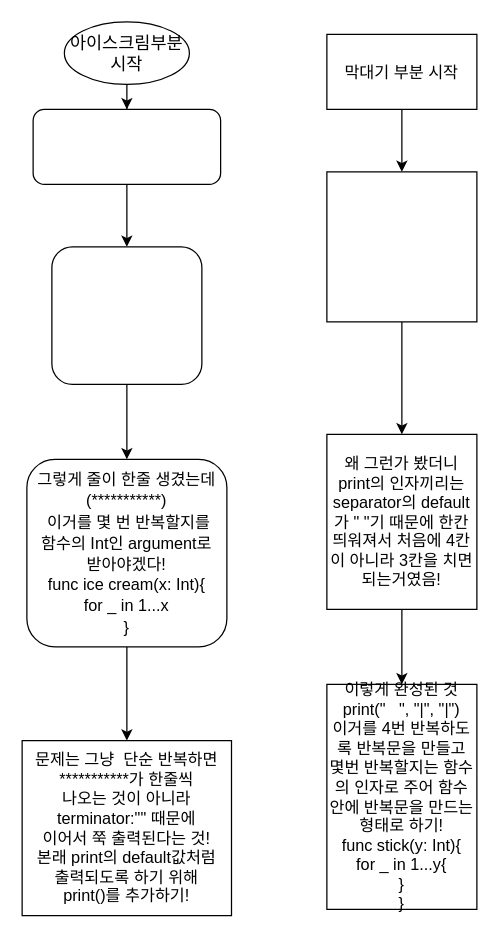
Image size: 499x938. Some labels were removed from this diagram. The centre of each missing label's shape, as x and y in pixels:
"|"부분을 세어보니. 5번째여서 4칸의 공백을 주고 "|"를 다음 인수로 주면 되겠다고 생각했는데 아니었음!: [401,246]
*를 11번 쓰기! 하지만 일일이 쓰는게 아니라 반복문 이용해야겠다! for _ in 1...11: [126,146]
근데 그냥 print를 하면 한줄 띄기가 되니까 안되도록 print("*",terminator: ""): [126,315]
